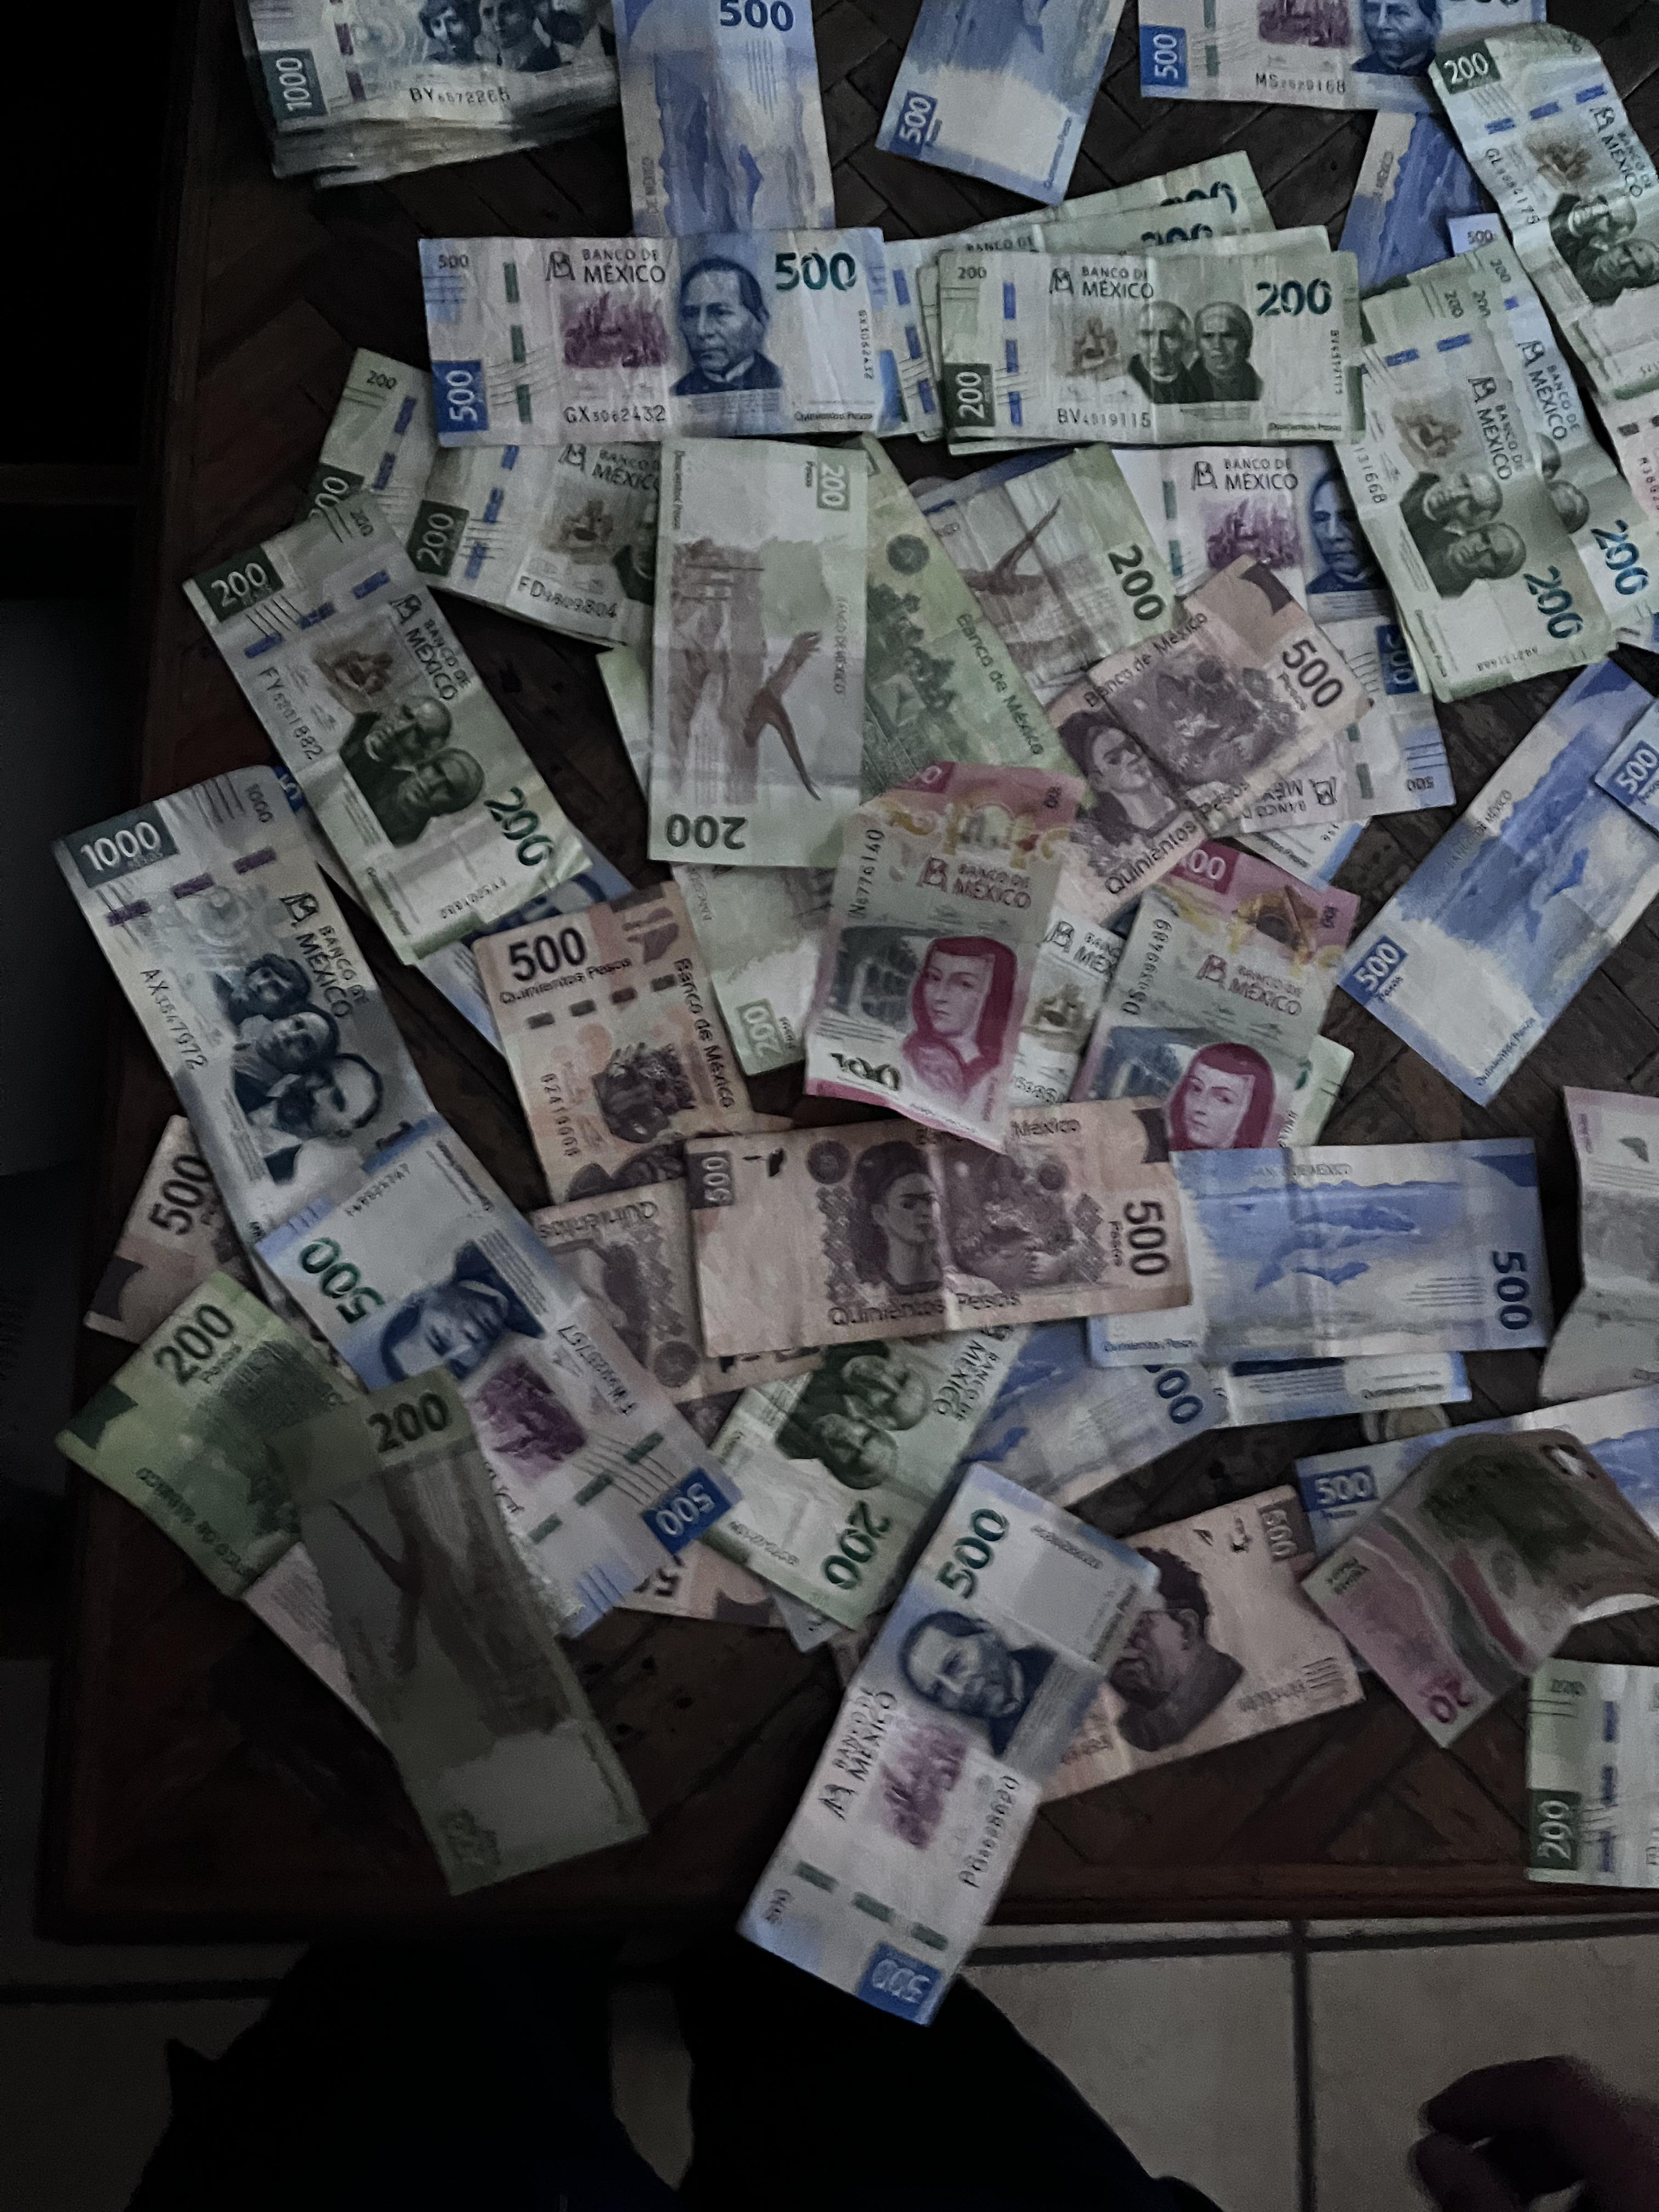100: (789, 752, 1054, 1137), (1086, 810, 1340, 1151)
1000: (61, 765, 444, 1230), (267, 0, 659, 190)
20: (1237, 1399, 1659, 1754)
200: (249, 1399, 659, 1898), (157, 491, 570, 986), (1314, 263, 1617, 704), (44, 1284, 380, 1620), (254, 352, 681, 617), (626, 420, 866, 883), (904, 242, 1382, 441), (1415, 19, 1659, 408), (706, 1325, 1006, 1618), (1495, 1642, 1659, 1885)
500: (674, 1092, 1225, 1372), (985, 1500, 1380, 1836), (1004, 554, 1364, 921), (474, 881, 774, 1258), (54, 1101, 296, 1362)
500 nuevo: (249, 1139, 714, 1637), (763, 1454, 1140, 2057), (373, 200, 910, 458), (1344, 650, 1659, 1087), (1103, 1132, 1568, 1348), (1089, 455, 1436, 655), (1284, 1383, 1659, 1561), (943, 1298, 1255, 1508), (603, 0, 863, 249), (859, 0, 1152, 195), (1100, 0, 1551, 120)
